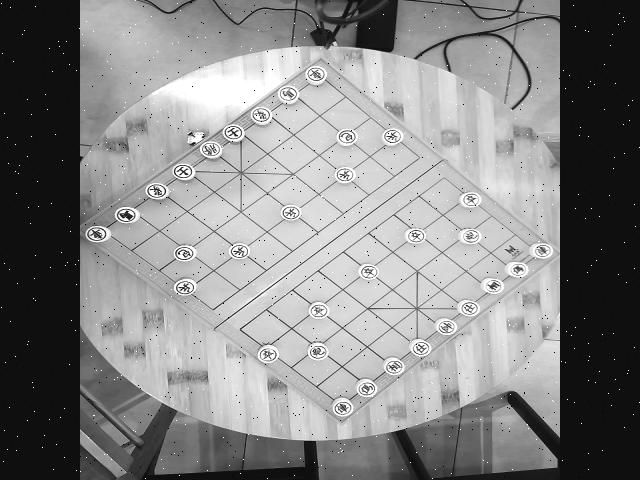piece: (85, 224, 112, 243), (332, 396, 356, 417), (114, 205, 142, 222), (356, 377, 378, 397), (304, 65, 328, 83), (250, 105, 274, 123), (256, 344, 280, 362), (435, 316, 459, 334), (458, 298, 482, 316), (383, 355, 405, 374), (144, 182, 170, 198), (528, 241, 554, 257), (309, 300, 332, 318), (409, 338, 432, 356), (222, 123, 246, 140), (172, 162, 196, 179), (459, 191, 484, 207), (459, 227, 484, 243), (307, 341, 329, 359), (278, 84, 300, 102), (174, 278, 198, 294), (506, 260, 530, 276), (482, 277, 506, 293), (382, 127, 404, 144), (406, 226, 428, 243), (174, 244, 197, 260), (200, 140, 223, 156), (229, 242, 251, 258), (282, 204, 304, 220), (358, 263, 380, 279), (336, 128, 358, 144), (336, 165, 356, 181)
